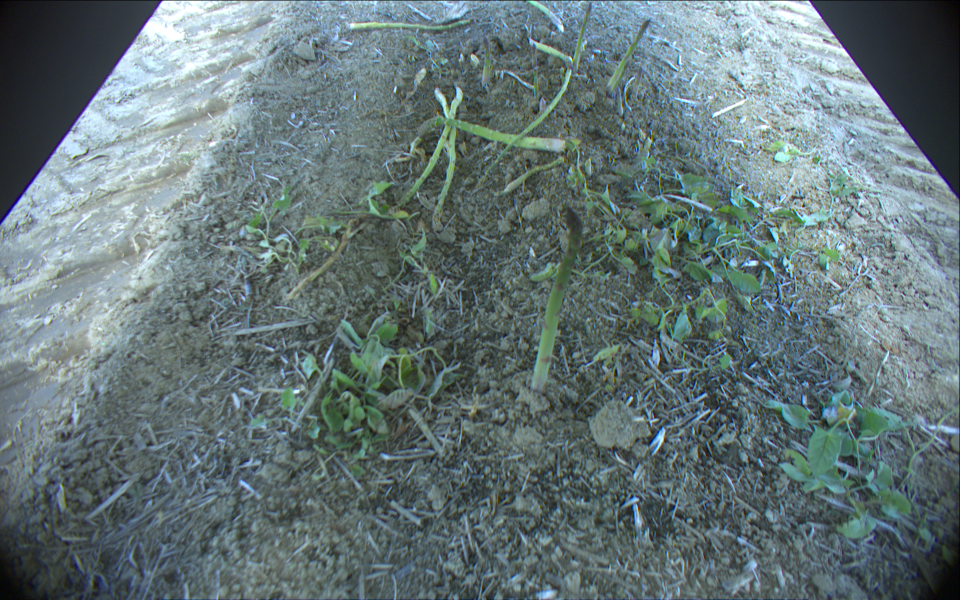aspa: (477, 42, 573, 185), (530, 206, 583, 392), (387, 89, 464, 217), (416, 118, 566, 152), (433, 85, 456, 234), (607, 20, 652, 94), (502, 158, 564, 194), (346, 19, 471, 33), (525, 1, 566, 30), (575, 2, 592, 71), (480, 37, 492, 87), (532, 42, 539, 99)
